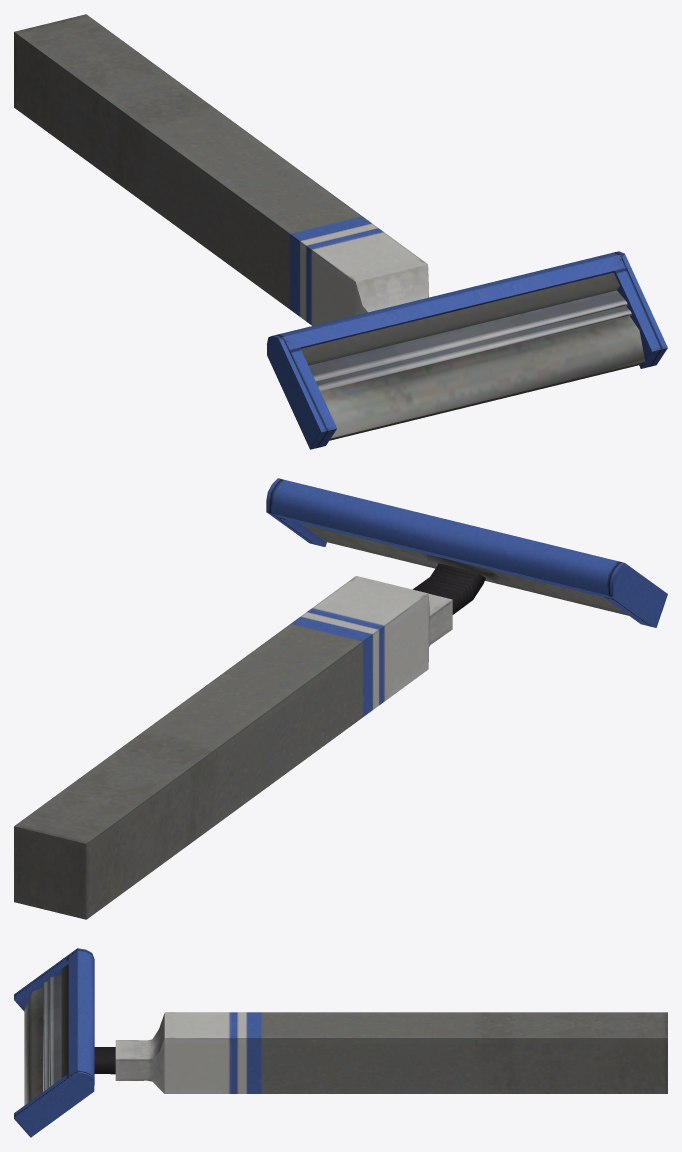
File: razor.dae
The picture shows the model from 3 angles, top to bottom: view 1: azimuth 30°, elevation 25°; view 2: azimuth 150°, elevation 25°; view 3: azimuth 270°, elevation 25°; orthographic projection. The views are drawn at different scales.
Visible parts, largest first — view 1: razor; view 2: razor; view 3: razor.
Part boxes in pixels (x1,y1,x2,y2): razor: (14,14,667,449); razor: (14,478,667,919); razor: (14,948,667,1137).
Bounding box in the file's own units: 5.43 × 1.44 × 12.06.
